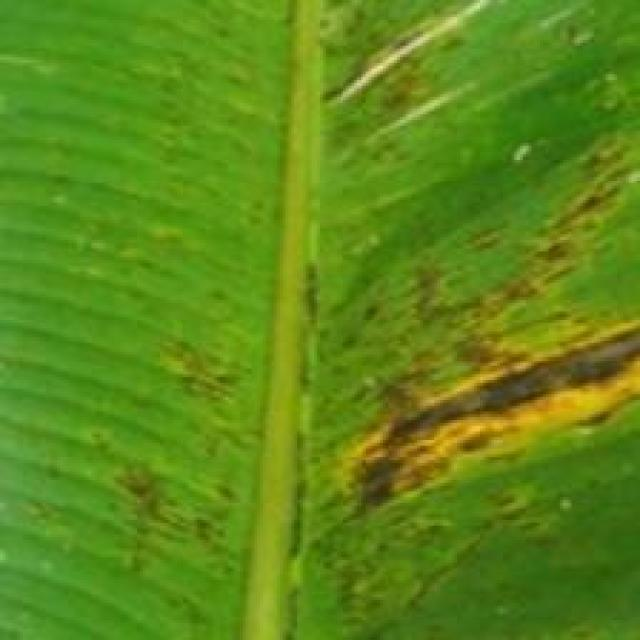Downey_mildrew: (292, 20, 628, 640), (105, 334, 269, 574)
